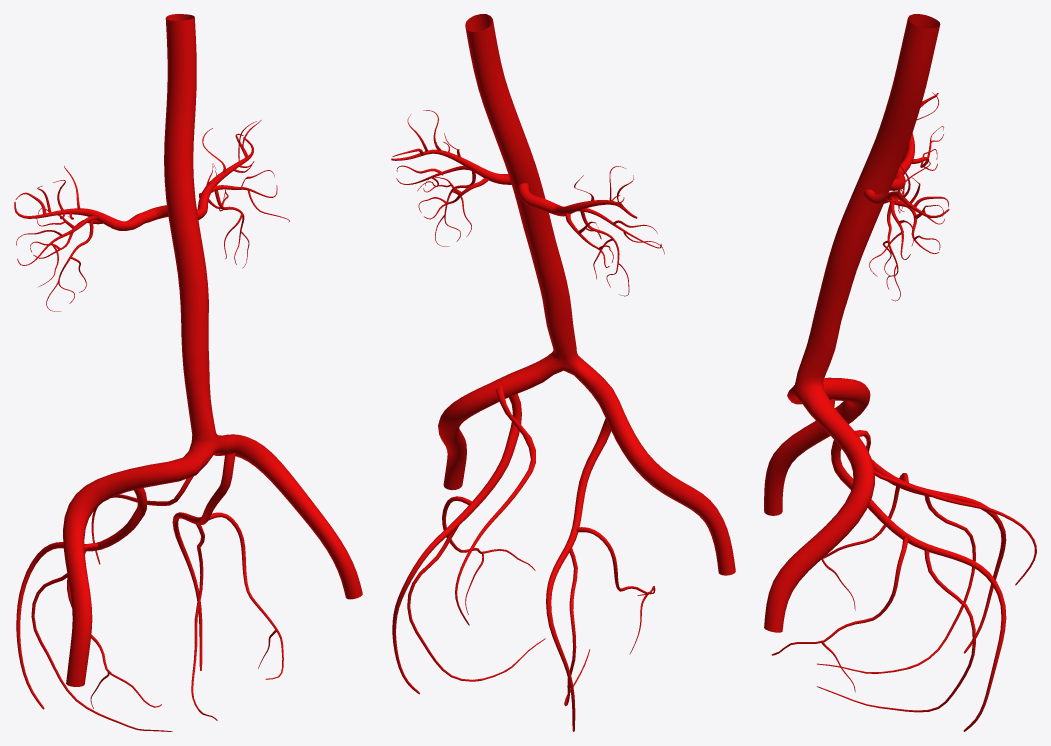
The model's file is Arteries.fbx.
3 views of the same model, side by side, from view 1: azimuth 30°, elevation 25°; view 2: azimuth 150°, elevation 25°; view 3: azimuth 270°, elevation 25° (orthographic). The views are drawn at different scales.
Visible parts, largest first — view 1: Arteries; view 2: Arteries; view 3: Arteries.
Part boxes in pixels (x1=…): Arteries: x1=14, y1=14, x2=362, y2=731; Arteries: x1=391, y1=14, x2=735, y2=731; Arteries: x1=764, y1=14, x2=1036, y2=731.
Size of the model in its own units: 18.35 by 40.55 by 14.45.
